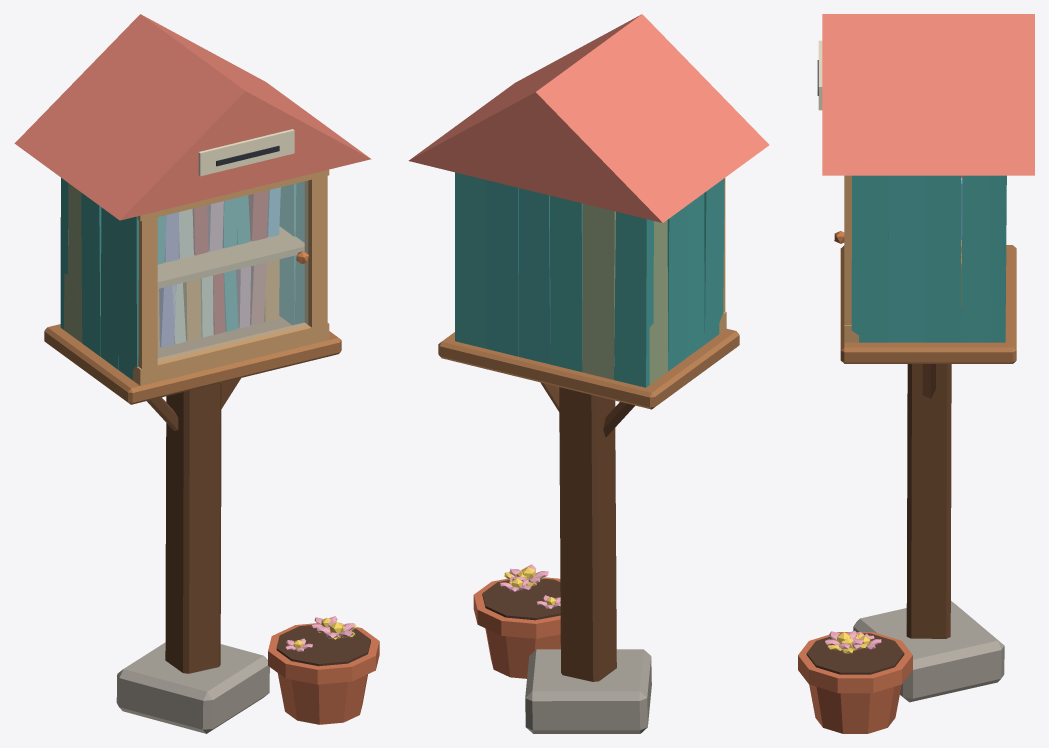
The model's file is little_library.glb.
The picture shows the model from 3 angles, left to right: view 1: azimuth 30°, elevation 25°; view 2: azimuth 150°, elevation 25°; view 3: azimuth 270°, elevation 25°; orthographic projection.
Visible parts, largest first — view 1: Little Library; view 2: Little Library; view 3: Little Library.
Part boxes in pixels (x1,y1,x2,y2): Little Library: (14,14,379,733); Little Library: (408,14,769,733); Little Library: (798,14,1034,733).
Bounding box in the file's own units: 0.8491 × 1.98 × 0.6468.
2 materials, 1 textured.
